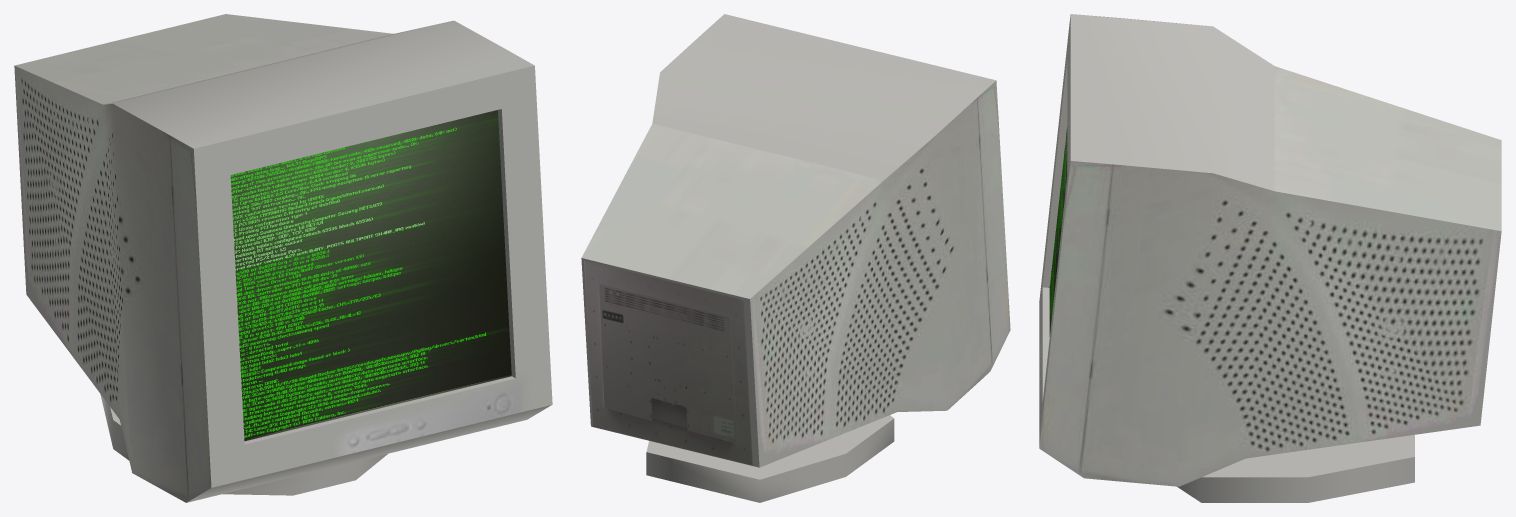
The model's file is monitor fat_lod2.fbx.
The picture shows the model from 3 angles, left to right: view 1: azimuth 30°, elevation 25°; view 2: azimuth 150°, elevation 25°; view 3: azimuth 270°, elevation 25°; orthographic projection. The views are drawn at different scales.
Parts seen in each view (by area): view 1: polySurface2, screen; view 2: polySurface2; view 3: polySurface2, screen.
Part boxes in pixels (bbox=[...]): polySurface2: bbox=[14, 14, 552, 502]; screen: bbox=[230, 110, 511, 441]; polySurface2: bbox=[581, 14, 1010, 502]; polySurface2: bbox=[1039, 14, 1501, 502]; screen: bbox=[1049, 127, 1067, 336].
Size of the model in its own units: 2 by 2.31 by 2.66.
